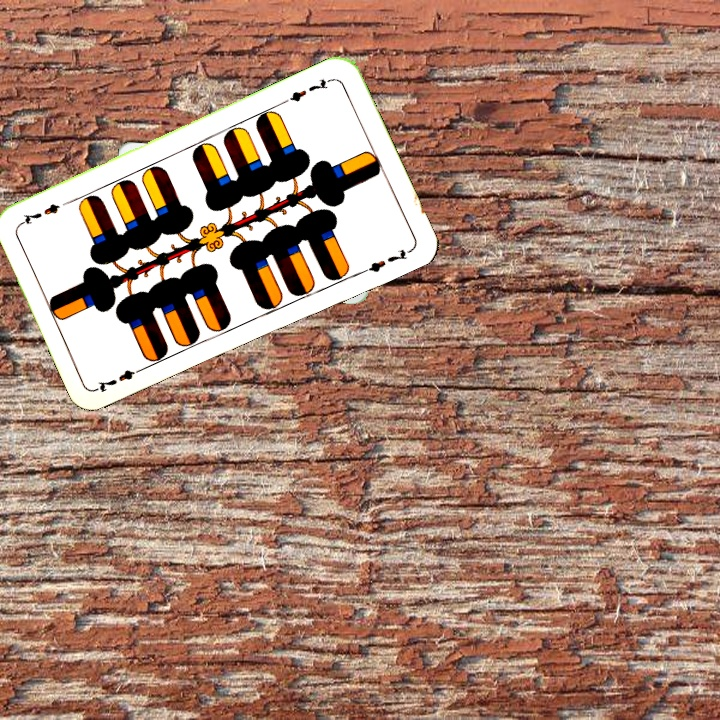E7: (93, 362, 149, 395), (280, 74, 336, 106)
